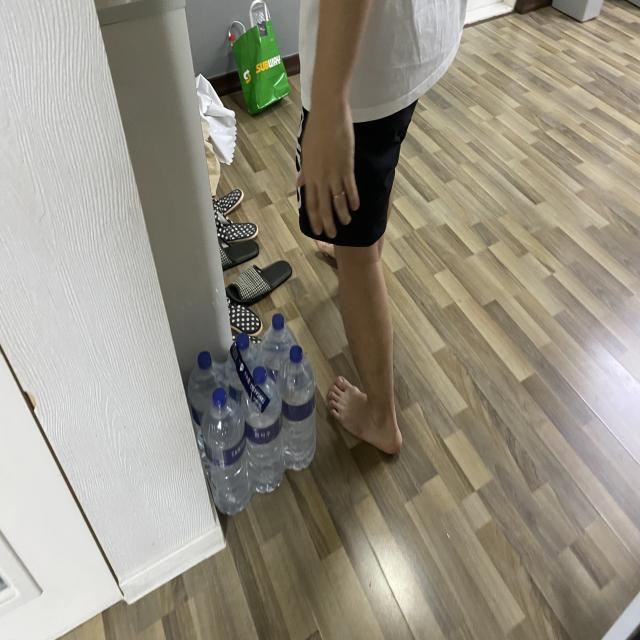no-boots: (316, 364, 408, 472)
